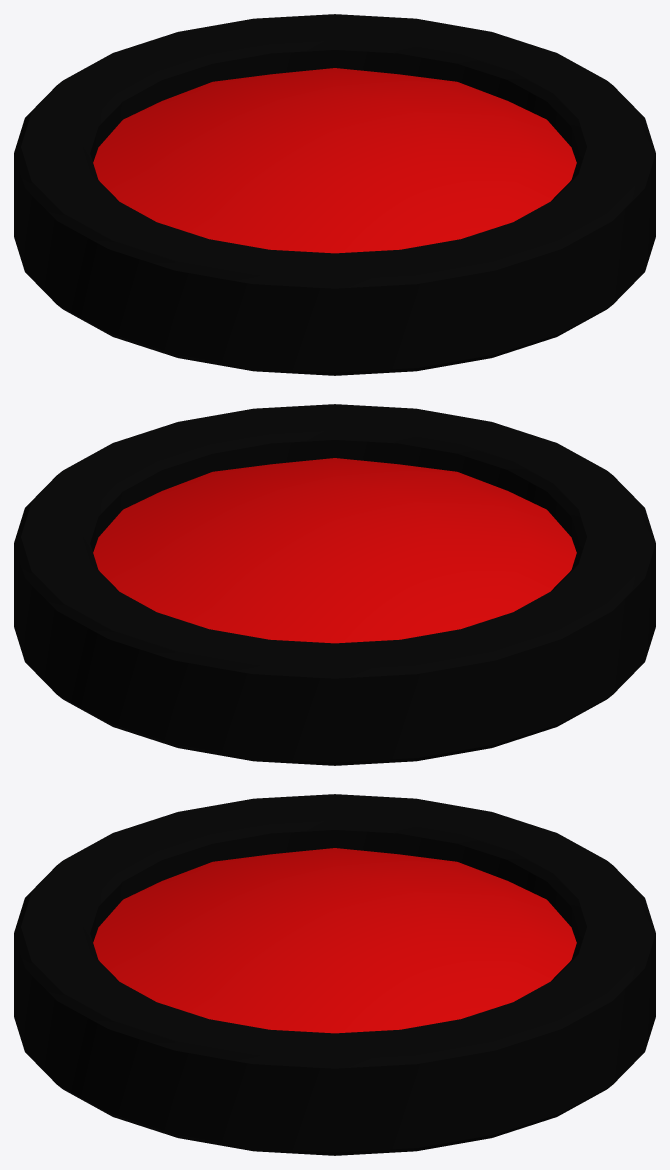
The model's file is coin.fbx.
3 views of the same model, one above another, from view 1: azimuth 30°, elevation 25°; view 2: azimuth 150°, elevation 25°; view 3: azimuth 270°, elevation 25° (orthographic).
Parts seen in each view (by area): view 1: combined; view 2: combined; view 3: combined.
Boxes of the visible parts, x1,y1,x2,y2 form: combined: (14,14,655,375); combined: (14,404,655,765); combined: (14,794,655,1155).
Bounding box in the file's own units: 179 × 39.49 × 179.
